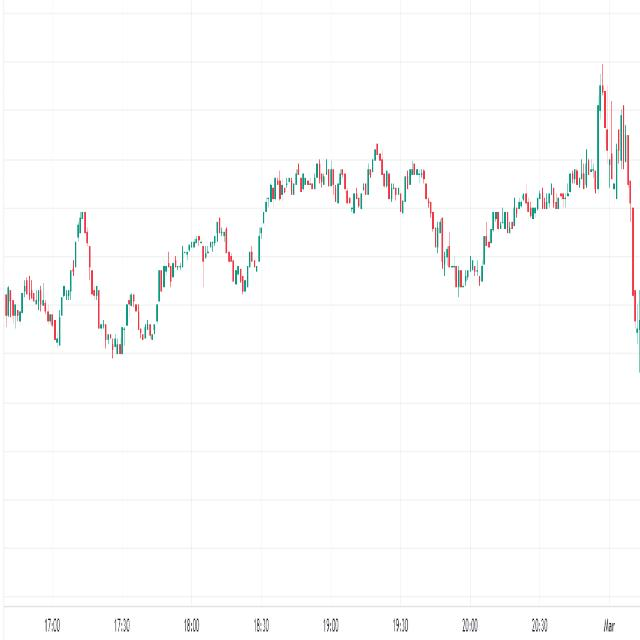Head-Shoulders: (56, 193, 104, 349)
